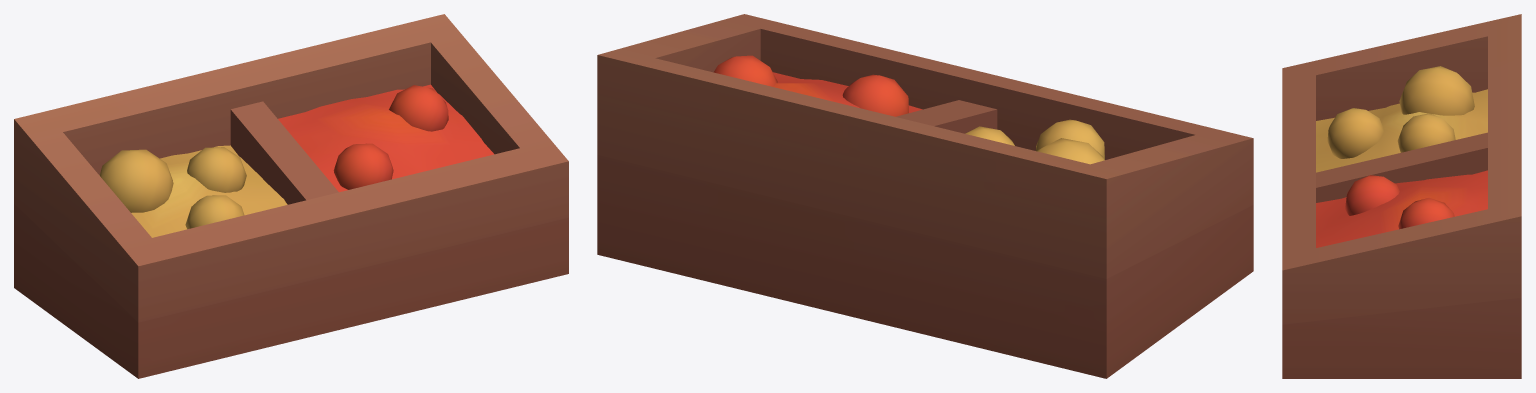
The model's file is crate_long_a.glb.
3 renders of one model, left to right at view 1: azimuth 30°, elevation 25°; view 2: azimuth 150°, elevation 25°; view 3: azimuth 270°, elevation 25°, orthographic. The views are drawn at different scales.
Visible parts, largest first — view 1: crate_long_A; view 2: crate_long_A; view 3: crate_long_A.
Part boxes in pixels (box(x1,y1,x2,y2)): crate_long_A: box(14, 14, 568, 378); crate_long_A: box(597, 14, 1253, 378); crate_long_A: box(1282, 14, 1521, 378).
Size of the model in its own units: 0.4 by 0.15 by 0.2.
Materials: 1 (1 with a texture image).
